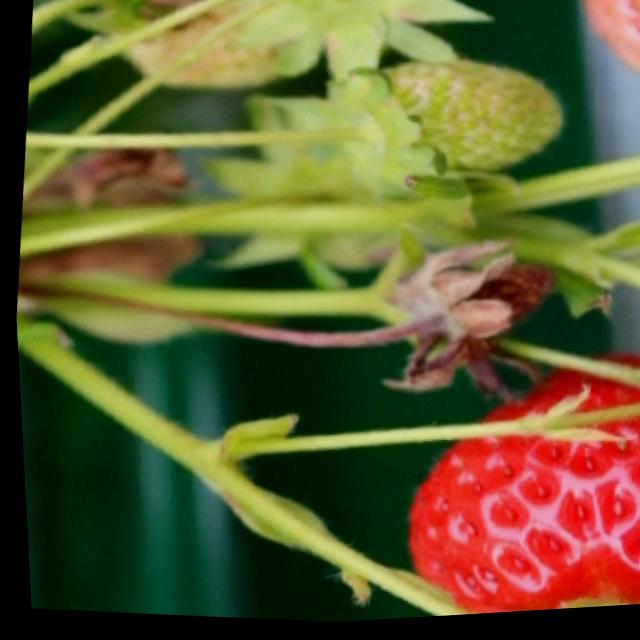Gray Mold: (358, 245, 550, 410)
